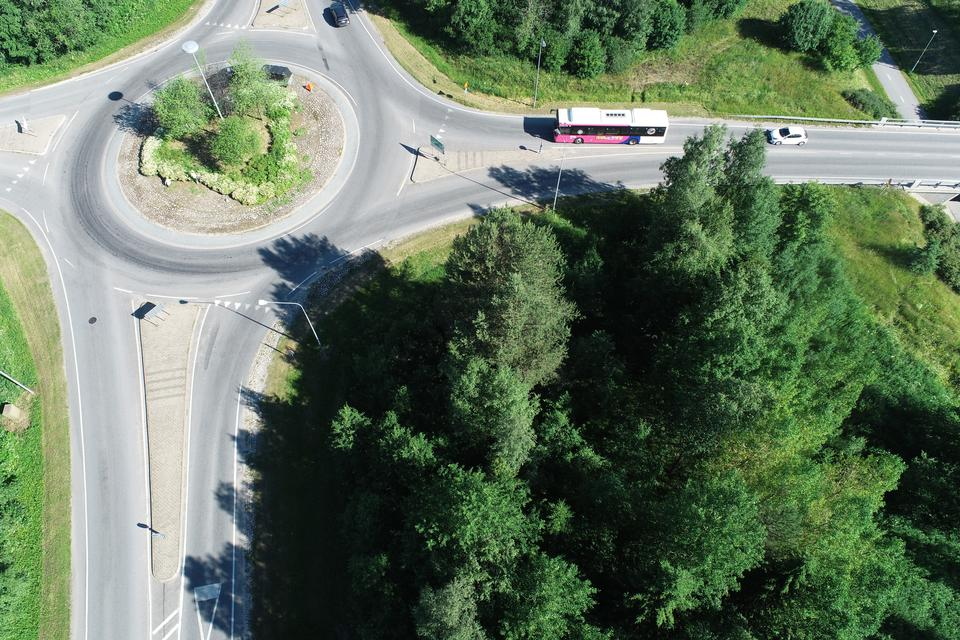roundabout: (13, 0, 477, 337)
